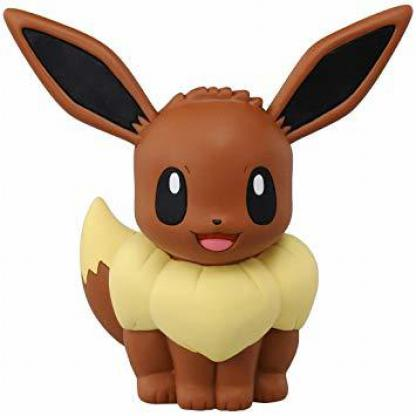Eevee: (1, 4, 416, 416)
